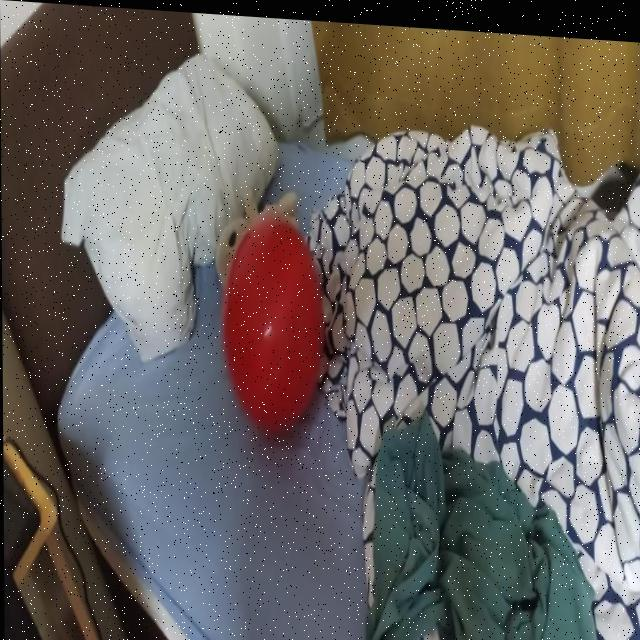balloon: (220, 208, 331, 428)
